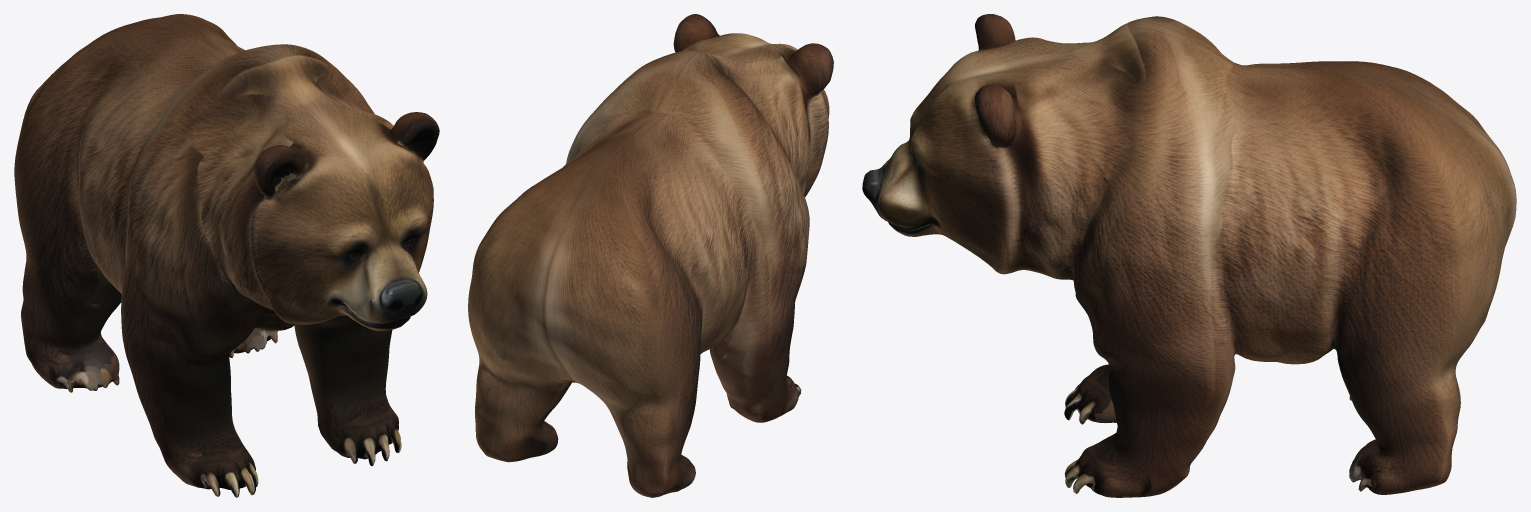
Rendered from in_memory_of_arthur_the_romanian_brown_bear.glb.
The picture shows the model from 3 angles, left to right: view 1: azimuth 30°, elevation 25°; view 2: azimuth 150°, elevation 25°; view 3: azimuth 270°, elevation 25°; orthographic projection. The views are drawn at different scales.
Parts seen in each view (by area): view 1: tmph8rmpvg_.ply_1; view 2: tmph8rmpvg_.ply_1; view 3: tmph8rmpvg_.ply_1.
Boxes of the visible parts, <box> form: tmph8rmpvg_.ply_1: <box>14,14,439,497</box>; tmph8rmpvg_.ply_1: <box>468,14,833,497</box>; tmph8rmpvg_.ply_1: <box>862,14,1516,497</box>.
Size of the model in its own units: 0.4742 by 0.7148 by 0.9893.
Materials: 1 (1 with a texture image).
